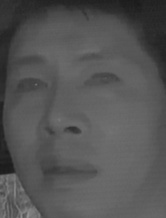eye: (11, 73, 51, 98), (83, 70, 121, 93)
mouth: (37, 151, 103, 193)
